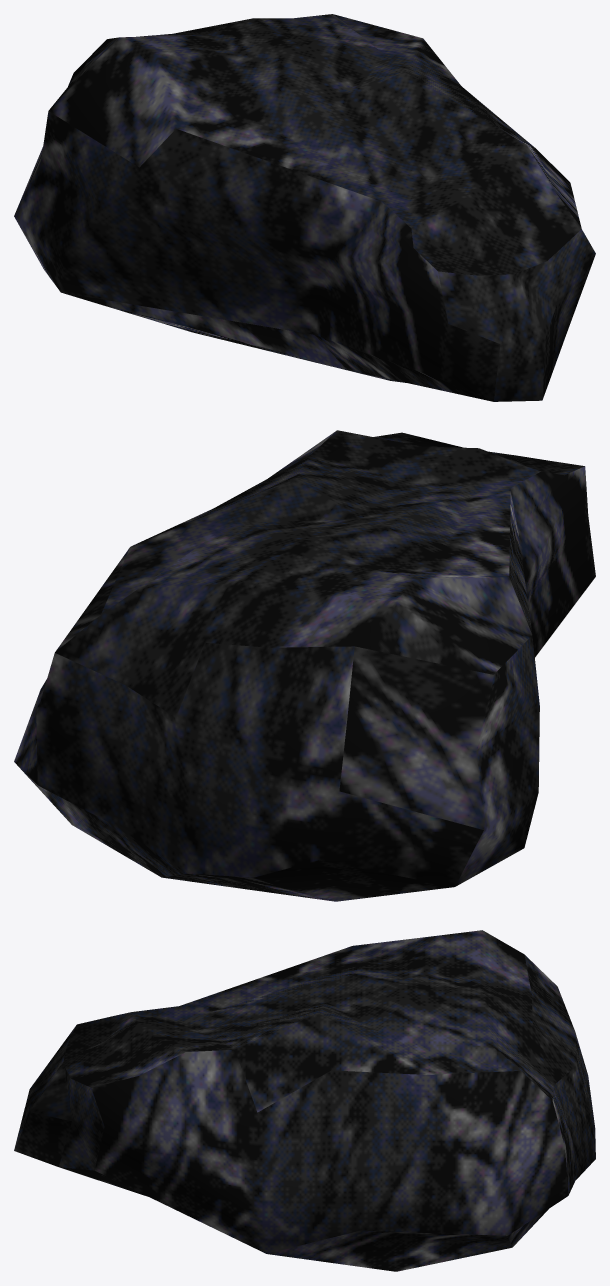
Rendered from rock.fbx.
The picture shows the model from 3 angles, top to bottom: view 1: azimuth 30°, elevation 25°; view 2: azimuth 150°, elevation 25°; view 3: azimuth 270°, elevation 25°; orthographic projection. The views are drawn at different scales.
Parts seen in each view (by area): view 1: rock; view 2: rock; view 3: rock.
Boxes of the visible parts, bbox=[...] form: rock: bbox=[14, 14, 595, 401]; rock: bbox=[14, 430, 595, 901]; rock: bbox=[14, 930, 595, 1271].
Size of the model in its own units: 397 by 264 by 561.
